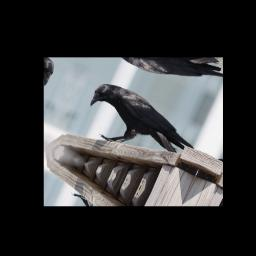Crow: (77, 77, 207, 174)
